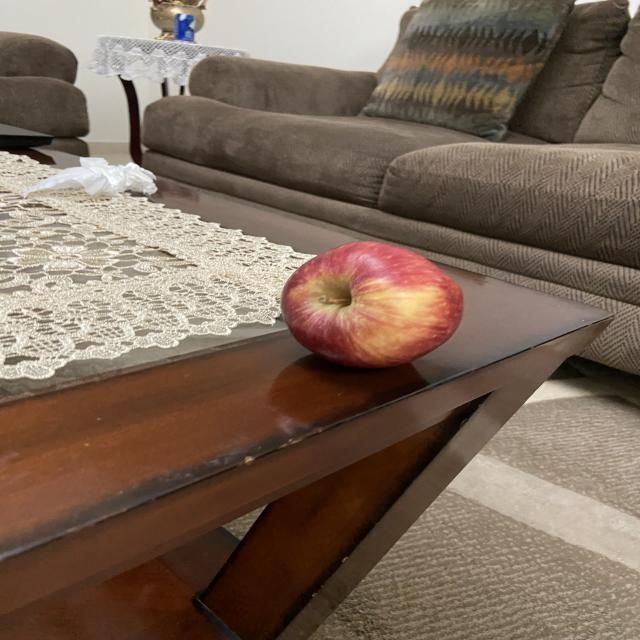apple: (270, 236, 468, 372)
